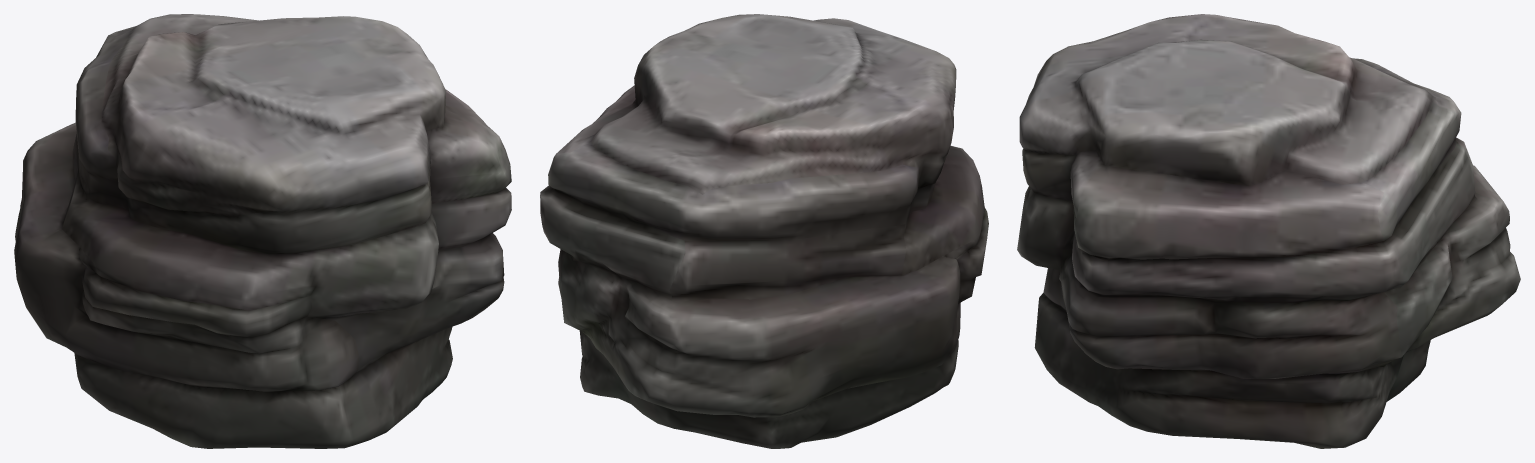
The model's file is stylized-rock-05.glb.
3 renders of one model, left to right at view 1: azimuth 30°, elevation 25°; view 2: azimuth 150°, elevation 25°; view 3: azimuth 270°, elevation 25°, orthographic. The views are drawn at different scales.
Visible parts, largest first — view 1: Mid_2; view 2: Mid_2; view 3: Mid_2.
Part boxes in pixels (x1,y1,x2,y2): Mid_2: (14, 14, 511, 448); Mid_2: (540, 14, 988, 448); Mid_2: (1017, 14, 1520, 448).
Size of the model in its own units: 4.88 by 3.8 by 5.47.
Materials: 1 (1 with a texture image).
